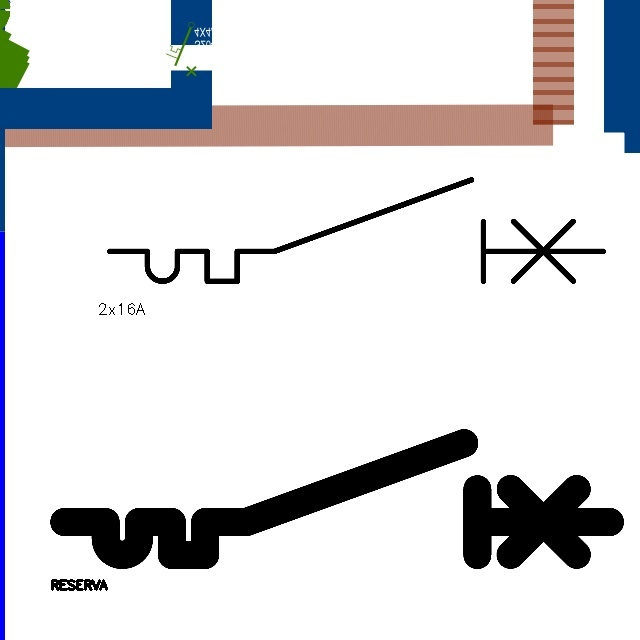interruptor_termomagnetico: (50, 429, 624, 569), (97, 167, 616, 294)
